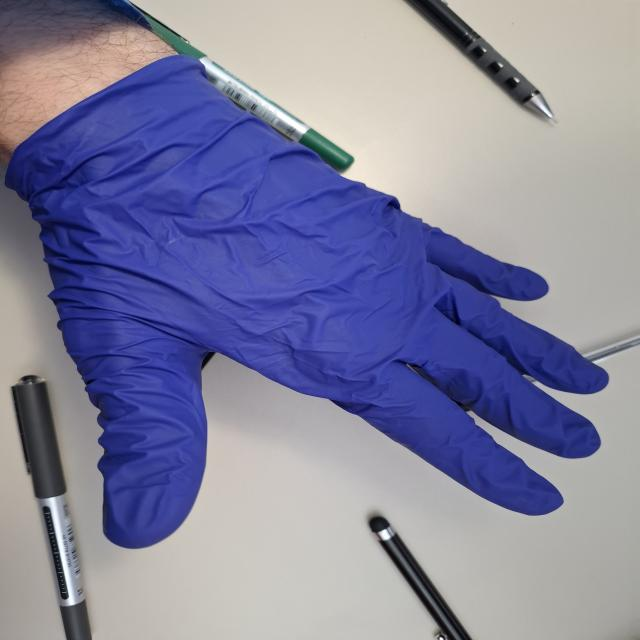glove_on: (5, 55, 612, 552)
